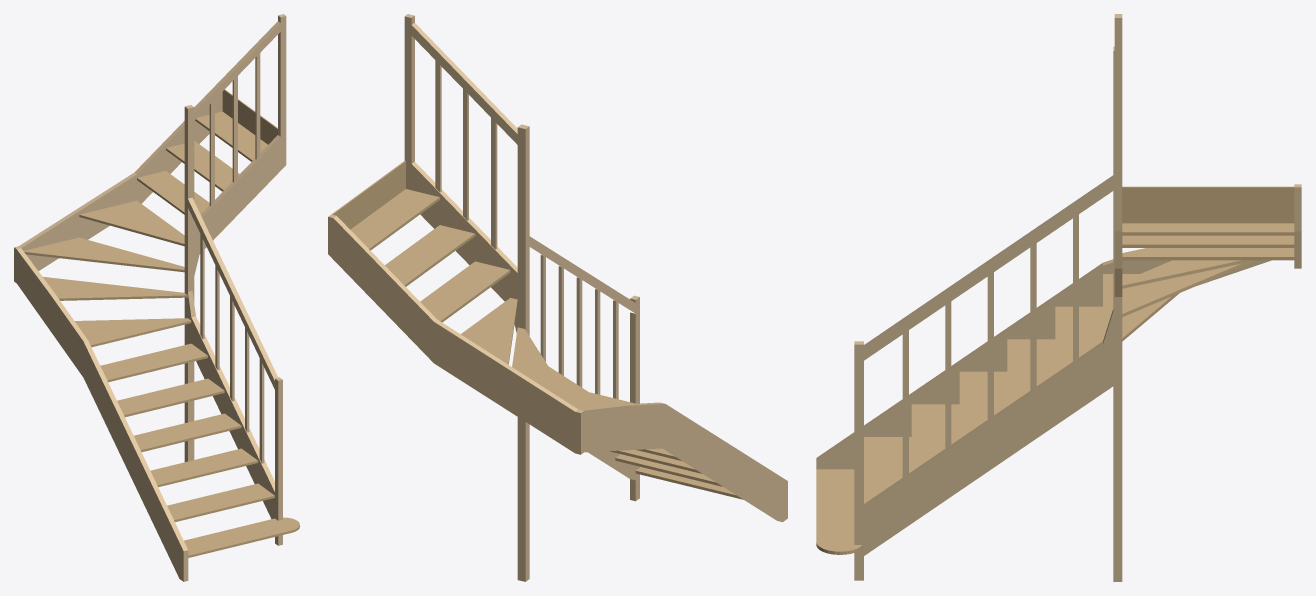
File: sweethome3d-contributions-winder-staircase.glb
The picture shows the model from 3 angles, left to right: view 1: azimuth 30°, elevation 25°; view 2: azimuth 150°, elevation 25°; view 3: azimuth 270°, elevation 25°; orthographic projection. The views are drawn at different scales.
Visible parts, largest first — view 1: 6_6, 3_3, 2_2; view 2: 2_2, 3_3, 6_6; view 3: 6_6, 3_3, 2_2.
Part boxes in pixels (x1,y1,x2,y2): 6_6: (23,89,299,557); 3_3: (184,14,286,545); 2_2: (14,92,222,581); 2_2: (328,214,787,522); 3_3: (404,14,639,581); 6_6: (331,161,742,499); 6_6: (816,186,1294,554); 3_3: (854,14,1122,581); 2_2: (816,184,1301,469).
Size of the model in its own units: 179 by 363 by 254.
